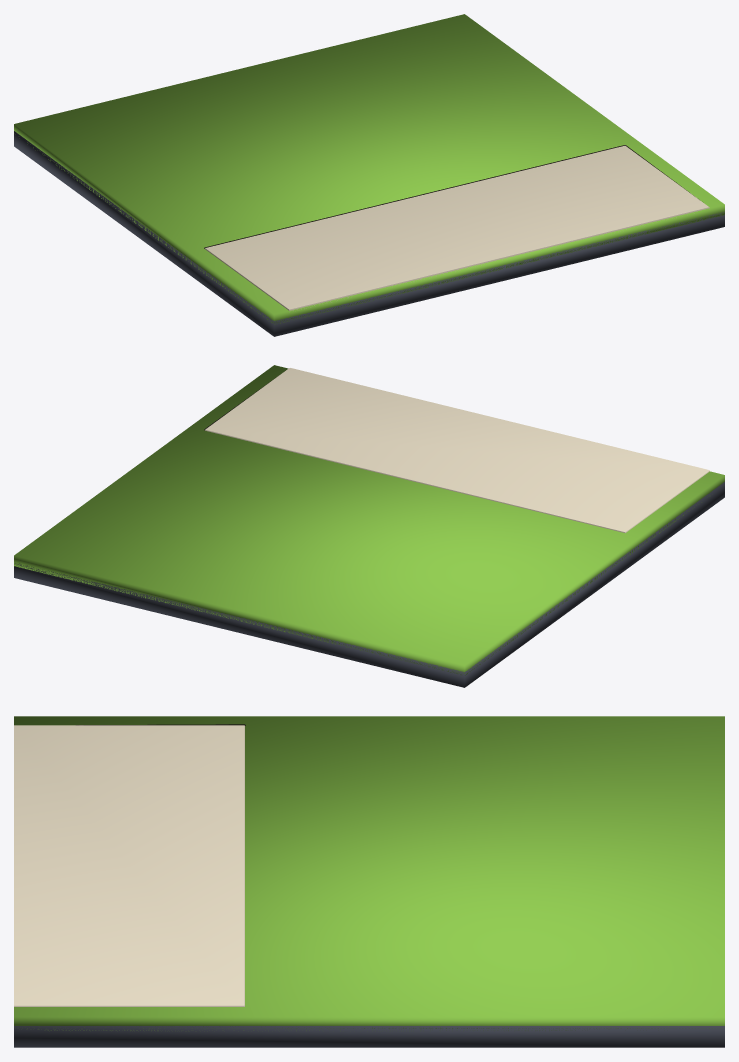
The model's file is Lot_Shops.fbx.
3 views of the same model, one above another, from view 1: azimuth 30°, elevation 25°; view 2: azimuth 150°, elevation 25°; view 3: azimuth 270°, elevation 25° (orthographic). The views are drawn at different scales.
Visible parts, largest first — view 1: Tile_Lot_Shops_Grass, Tile_Lot_Shops_Sidewalk, Tile_Lot_Shops_Asphalt, Tile_Lot_Shops_Outline; view 2: Tile_Lot_Shops_Grass, Tile_Lot_Shops_Sidewalk, Tile_Lot_Shops_Asphalt; view 3: Tile_Lot_Shops_Grass, Tile_Lot_Shops_Sidewalk, Tile_Lot_Shops_Asphalt.
Boxes of the visible parts, left/top/right/bottom form: Tile_Lot_Shops_Grass: left=14, top=14, right=724, bottom=324; Tile_Lot_Shops_Sidewalk: left=205, top=145, right=709, bottom=310; Tile_Lot_Shops_Asphalt: left=14, top=131, right=724, bottom=336; Tile_Lot_Shops_Outline: left=204, top=145, right=694, bottom=248; Tile_Lot_Shops_Grass: left=14, top=365, right=724, bottom=675; Tile_Lot_Shops_Sidewalk: left=205, top=368, right=709, bottom=533; Tile_Lot_Shops_Asphalt: left=14, top=482, right=724, bottom=687; Tile_Lot_Shops_Grass: left=14, top=716, right=724, bottom=1030; Tile_Lot_Shops_Sidewalk: left=14, top=725, right=244, bottom=1006; Tile_Lot_Shops_Asphalt: left=14, top=1026, right=724, bottom=1047.
Size of the model in its own units: 24 by 1.24 by 24.
